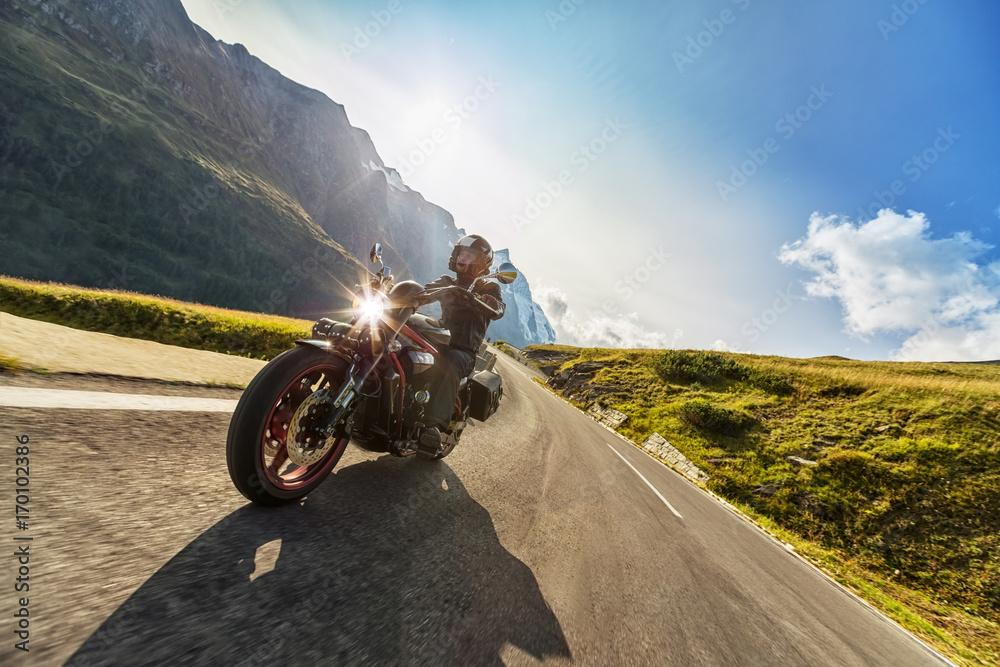helmet: (448, 233, 494, 279)
